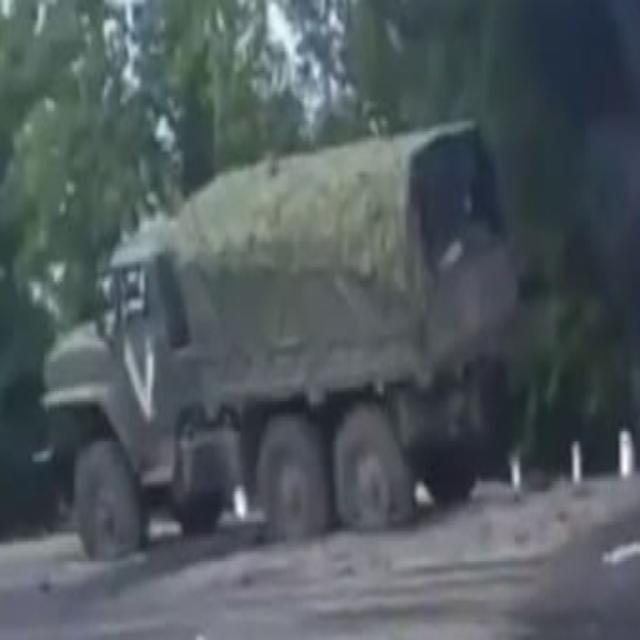TRUCK: (34, 112, 488, 556)
